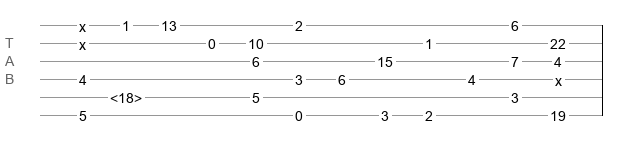0: (208, 36, 216, 46), (295, 108, 303, 118)
1: (122, 18, 130, 28), (425, 36, 433, 46)
10: (248, 36, 264, 46)
13: (161, 18, 177, 28)
15: (377, 54, 393, 64)
19: (550, 108, 566, 118)
2: (295, 18, 303, 28), (425, 108, 433, 118)
22: (550, 36, 566, 46)
3: (295, 72, 303, 82), (381, 108, 389, 118), (511, 90, 519, 100)
4: (79, 72, 87, 82), (468, 72, 476, 82), (554, 54, 562, 64)
5: (79, 108, 87, 118), (252, 90, 260, 100)
6: (252, 54, 260, 64), (338, 72, 346, 82), (511, 18, 519, 28)
7: (511, 54, 519, 64)
harmonic: (110, 90, 142, 100)
x: (79, 19, 86, 27), (79, 37, 86, 45), (555, 73, 562, 81)
